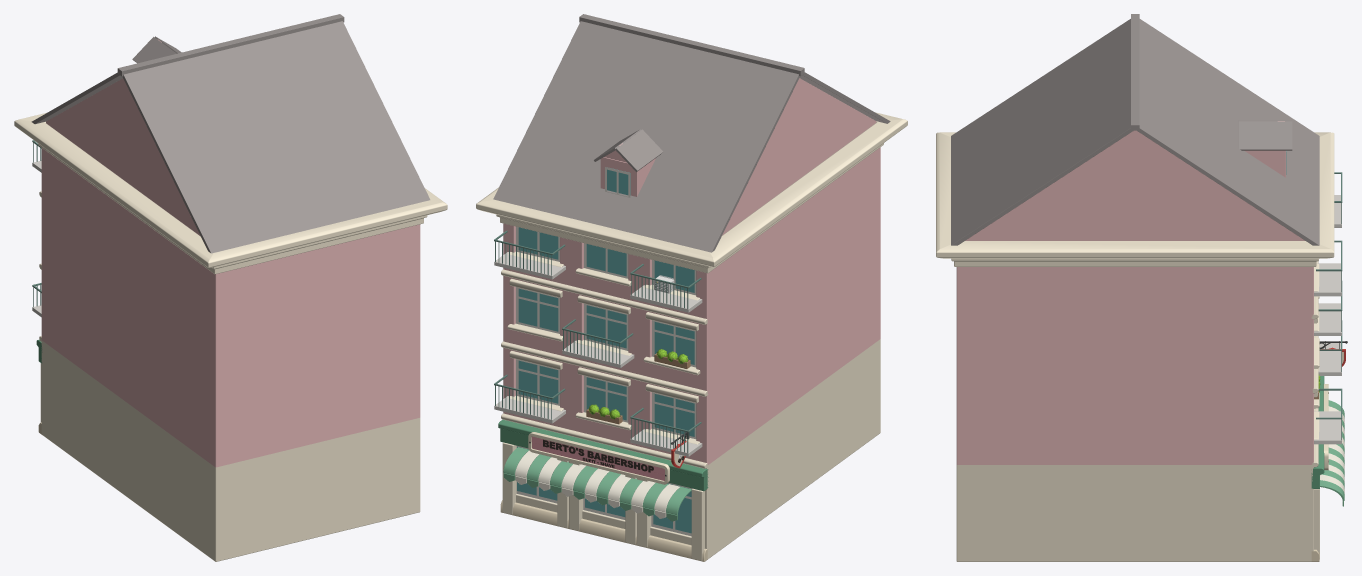
The model's file is shophouse_rose_3.glb.
The picture shows the model from 3 angles, left to right: view 1: azimuth 30°, elevation 25°; view 2: azimuth 150°, elevation 25°; view 3: azimuth 270°, elevation 25°; orthographic projection. The views are drawn at different scales.
Parts seen in each view (by area): view 1: shell, props, trim; view 2: shell, props, trim, awnings, frames, sign_berto_s_barbershop, sign_berto_s_barbershop_text; view 3: shell, props, trim, awnings.
Boxes of the visible parts, x1,y1,x2,y2 form: shell: (41,123,420,561); props: (31,14,430,317); trim: (14,112,447,434); shell: (503,123,880,558); props: (493,14,890,456); trim: (476,112,907,561); awnings: (503,447,691,521); frames: (516,167,696,536); sign_berto_s_barbershop: (528,432,669,484); sign_berto_s_barbershop_text: (543,439,653,472); shell: (956,267,1313,561); props: (951,14,1342,444); trim: (936,132,1334,561); awnings: (1320,400,1344,506).
Size of the model in its own units: 11.1 by 19.08 by 16.13.
Materials: 25 (2 with a texture image).
